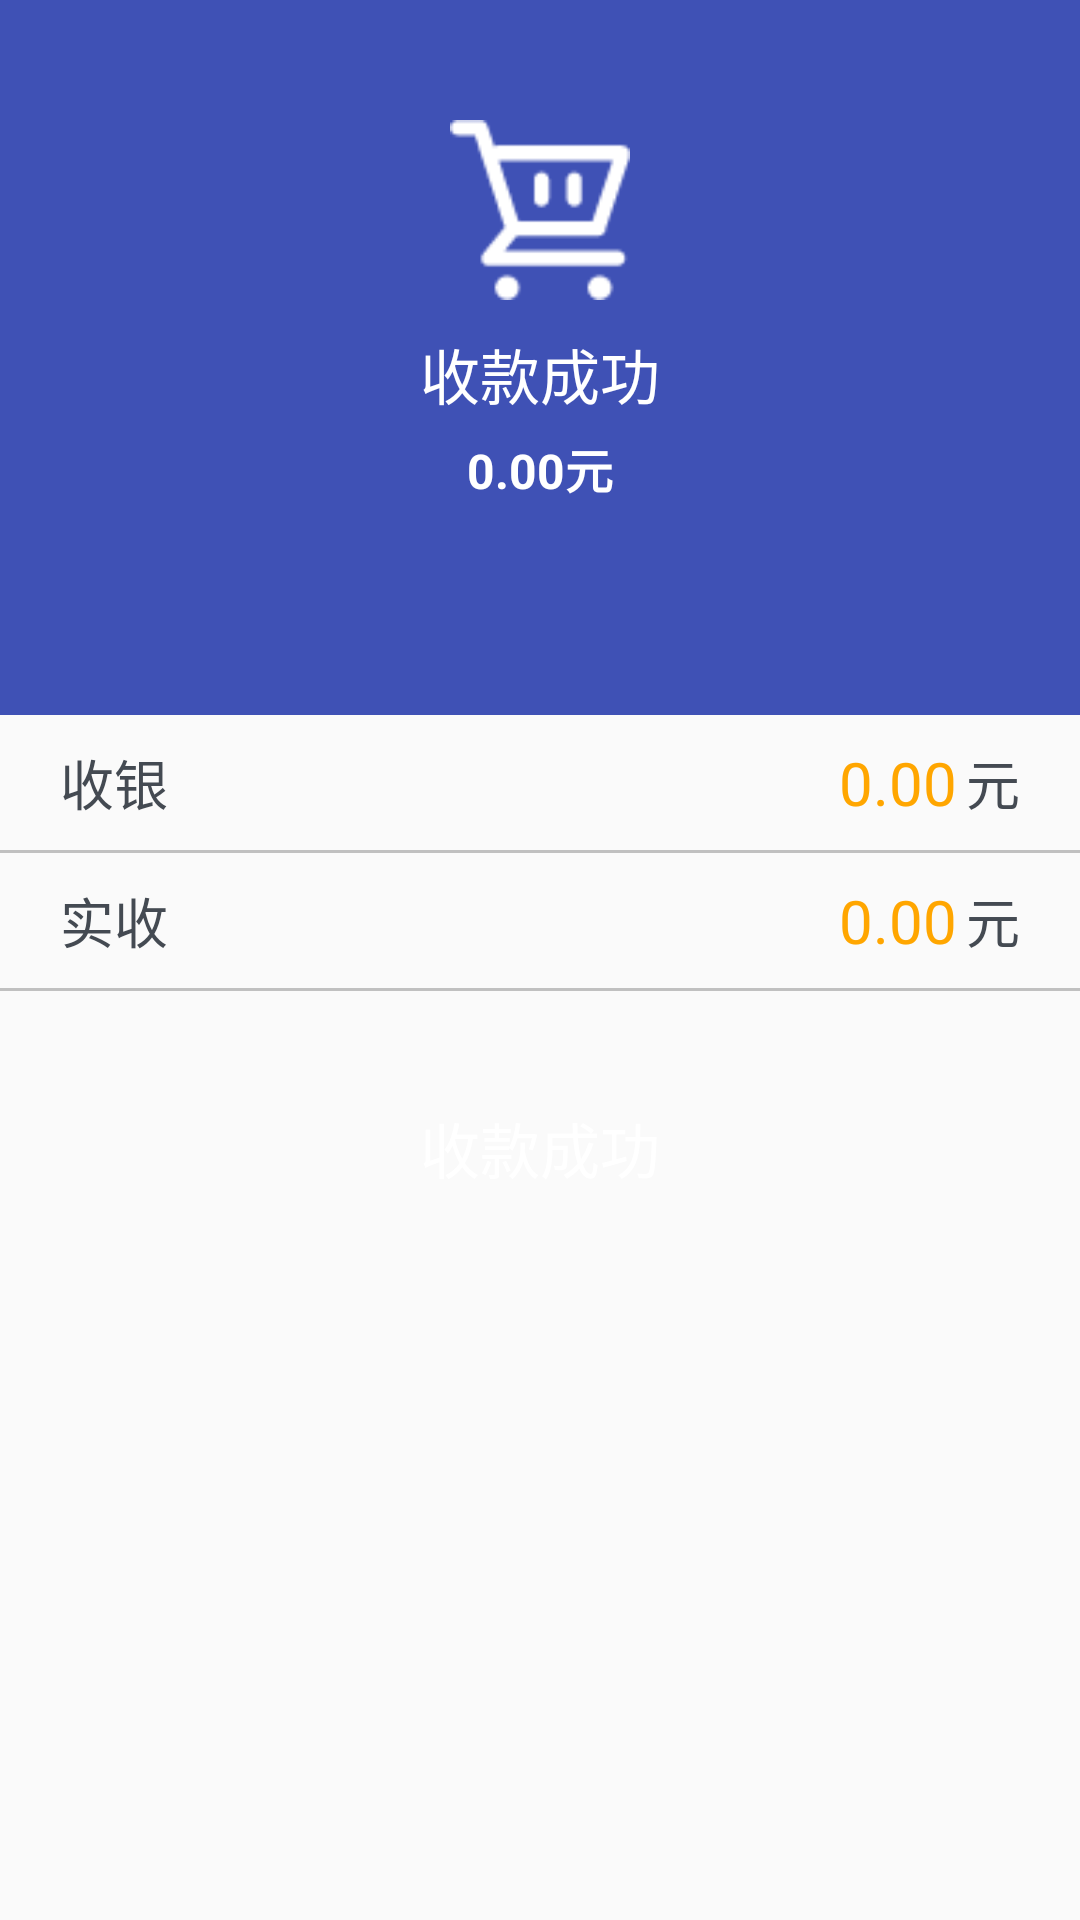

Icon bounding boxes for this 1080w x 1920h phone screenshot, format box=[x1, y1, x2, y2]:
gouwuche: box=[450, 120, 630, 300]
